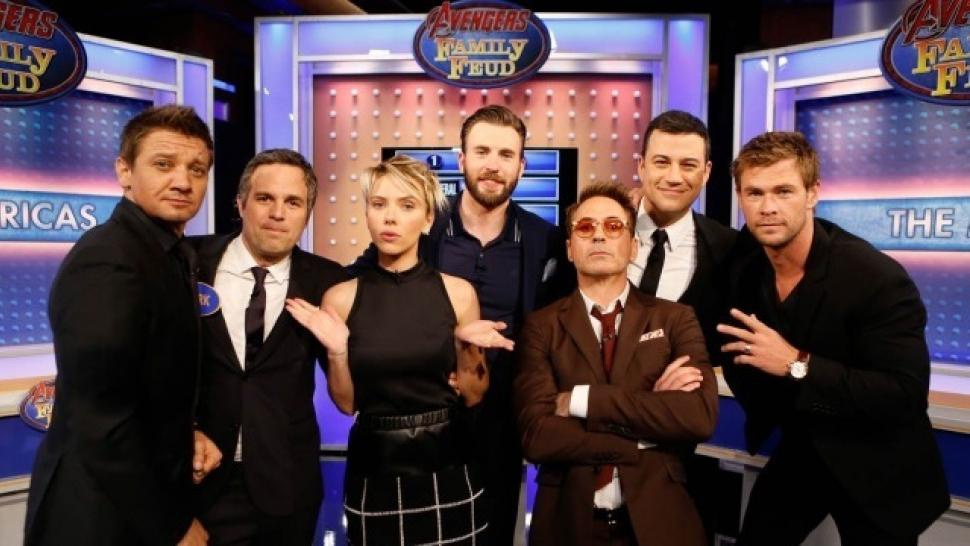bad: (135, 136, 225, 226), (560, 204, 635, 279), (635, 138, 710, 213), (460, 135, 522, 198), (246, 184, 308, 246), (736, 177, 798, 239), (363, 191, 425, 253)
